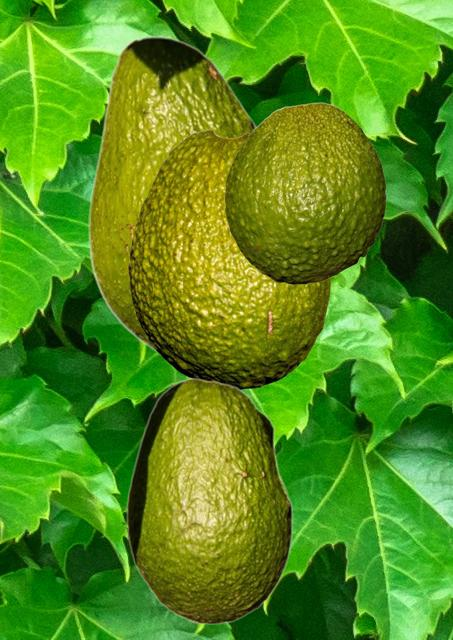avocado: (88, 36, 257, 356), (128, 129, 329, 389), (126, 377, 292, 624), (224, 102, 385, 283)
